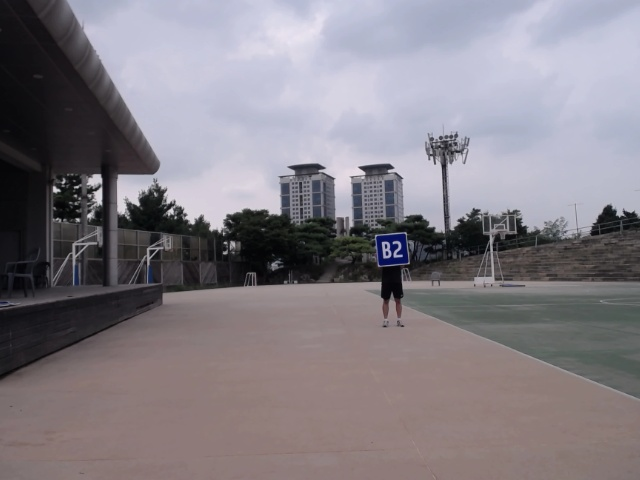delivery_b2: (373, 231, 411, 269)
